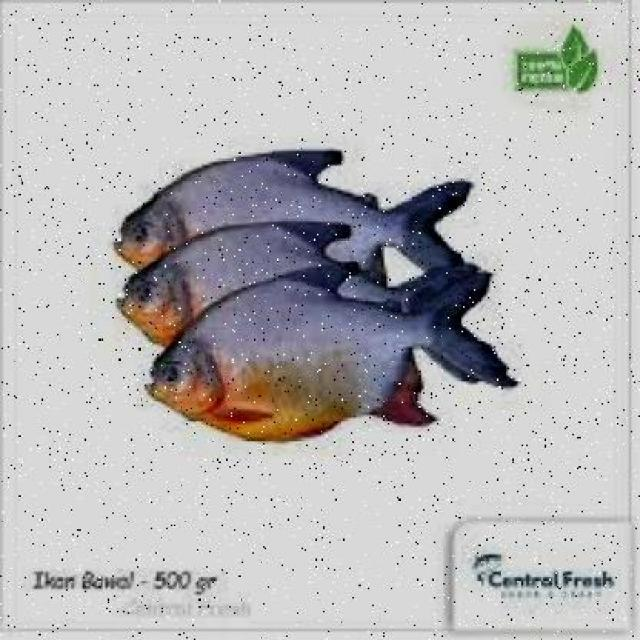ikan-pacu: (146, 281, 446, 457), (116, 148, 413, 262), (119, 222, 367, 342)
